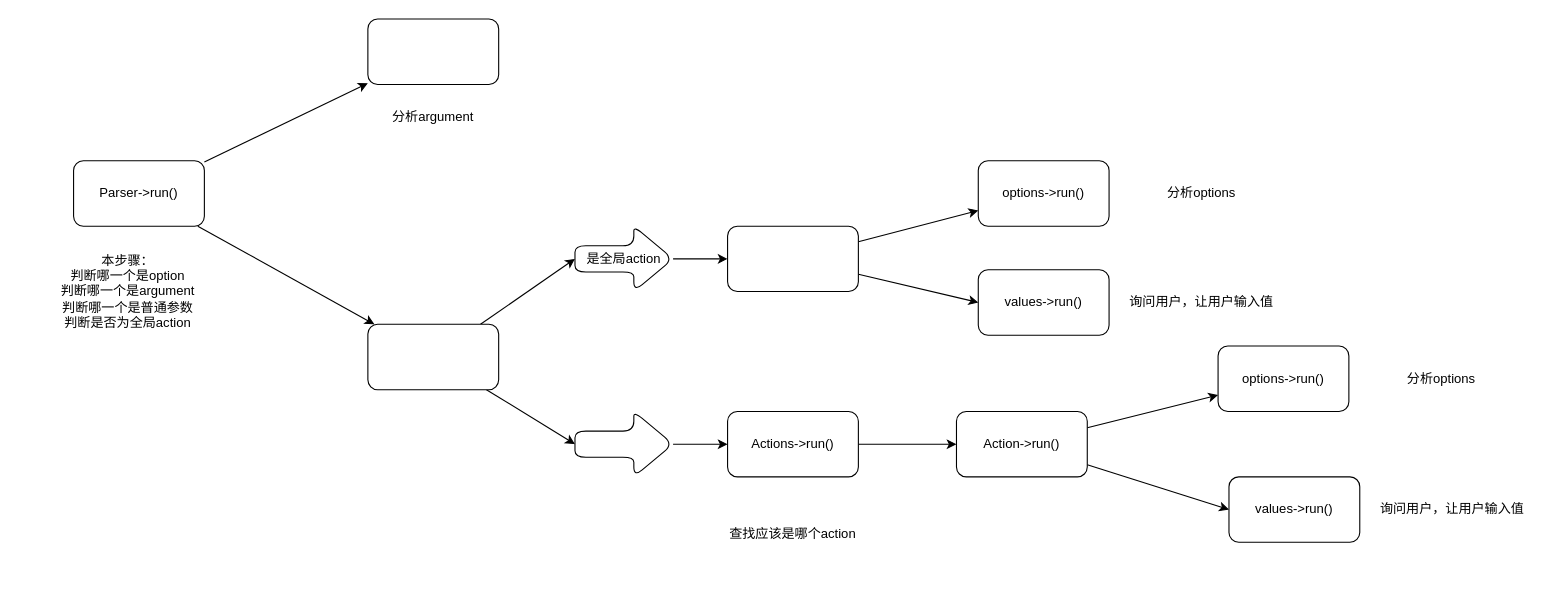
Image size: 1563x594. Some labels were removed from this diagram. The shapes that lost their labels are listed below. From the top down, each one's centre as x and y in pixels, then its label:
At point (433, 51): "Arguments->run()".
At point (792, 258): "global_action->run()".
At point (433, 356): "判断".
At point (623, 443): "不是全局action".
